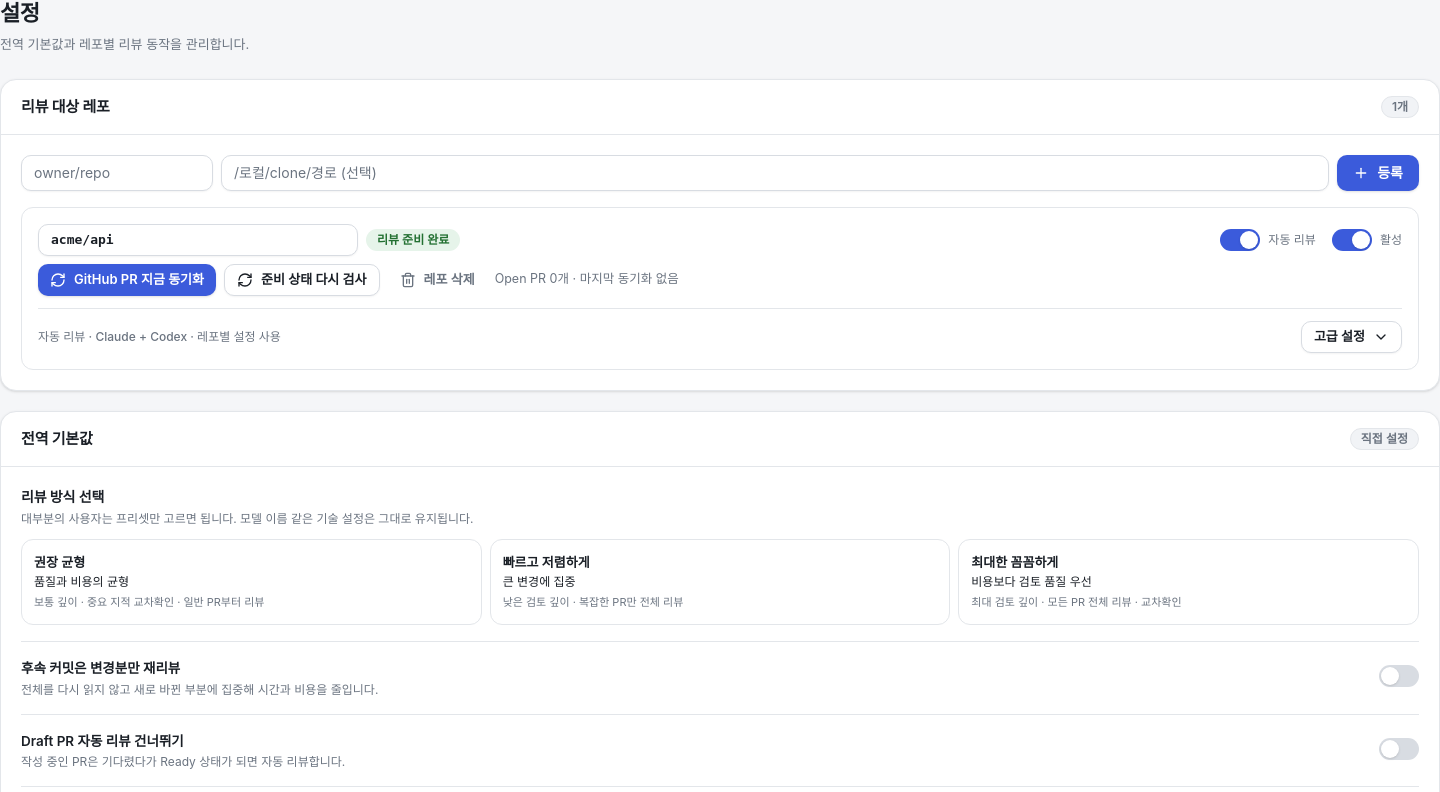
Scenario: failed per-repo model patch rolls back to the prior saved value
The width and height of the screenshot is (1440, 792).
Click the button "고급 설정" in the row of "자동 리뷰 · Claude + Codex · 레포별 설정 사용" at [1351, 337], box [1301,321,1402,353]
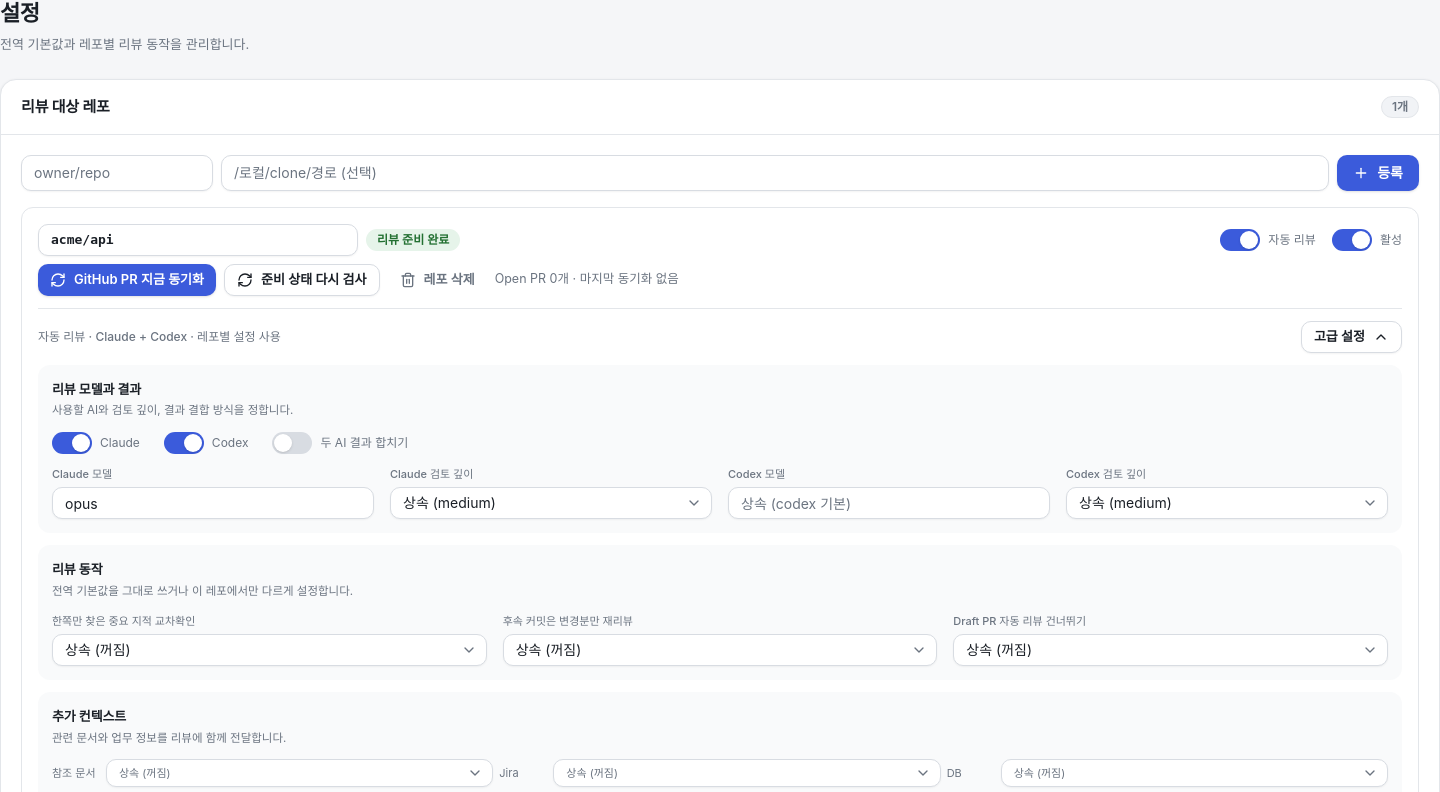
Now the field named "acme/api Claude 모델" holds "opus"
Replace the text in the field named "acme/api Claude 모델" with "haiku" at [213, 503], box [52,487,374,519]
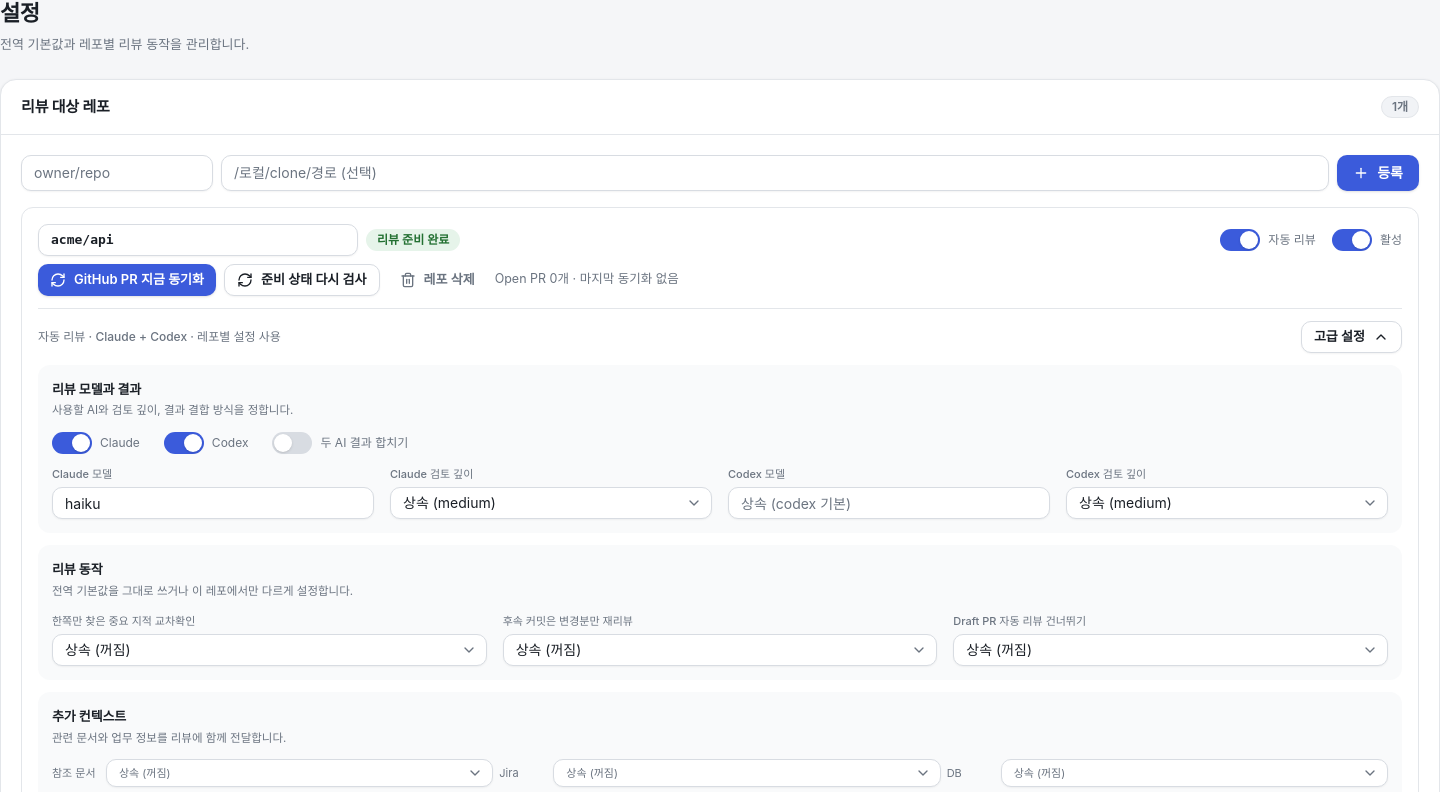
Leave the field named "acme/api Claude 모델", box [52,487,374,519]
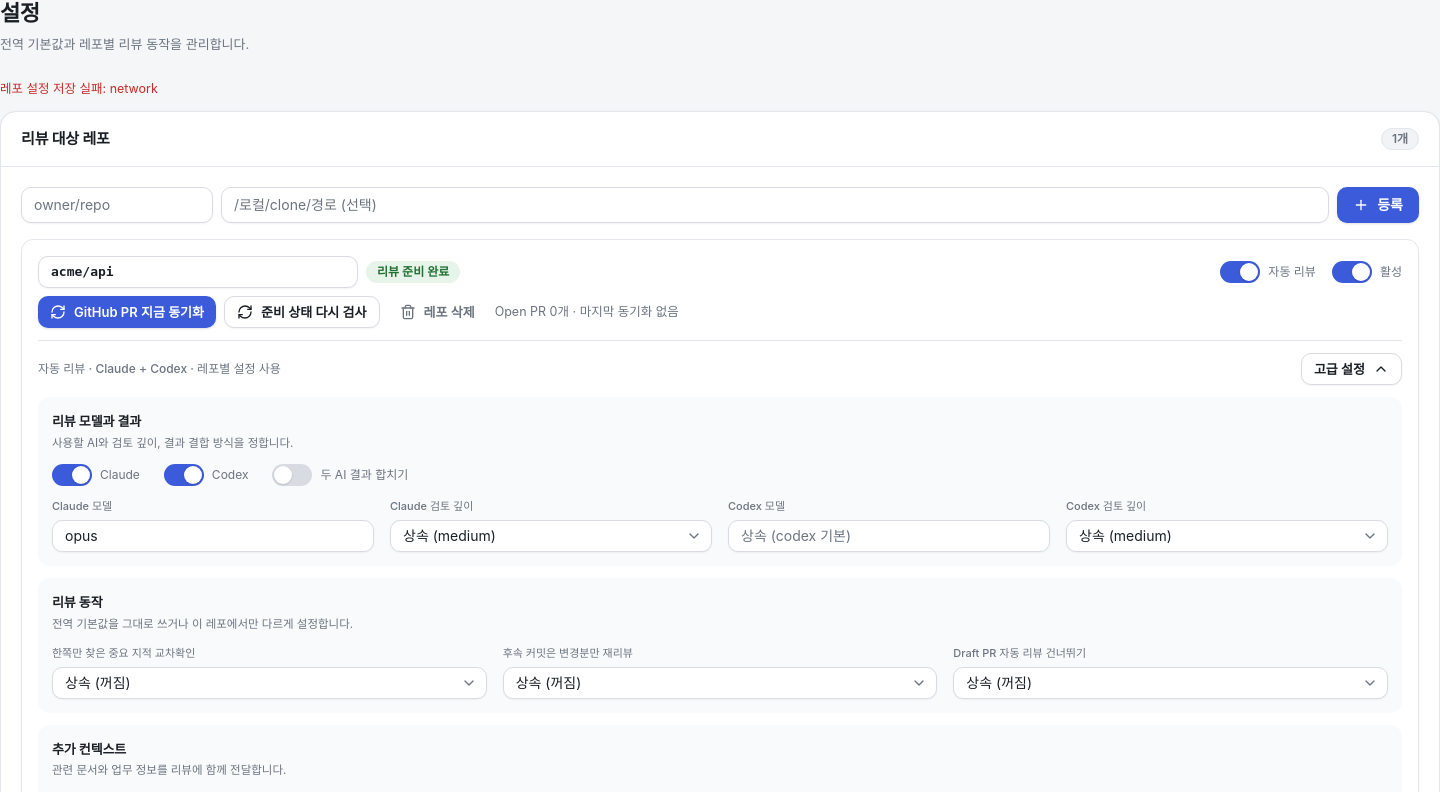
Now the field named "acme/api Claude 모델" holds "opus", box [52,520,374,552]
